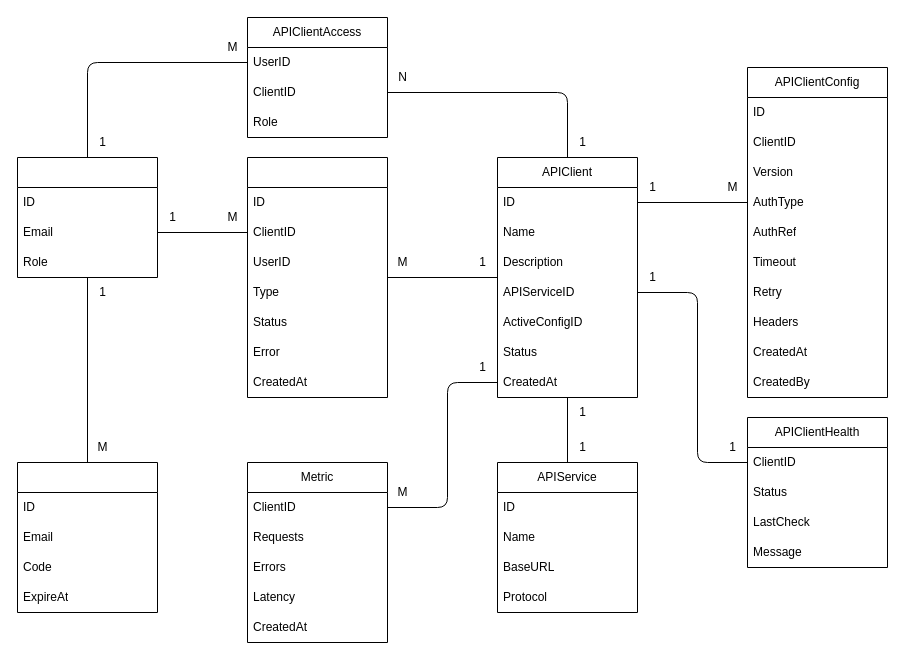
Image size: 905x660. Some labels were removed from this diagram. Here are the shapes that lost their labels. From the top down, the box of each, then its label:
(16, 156, 158, 278): User
(246, 156, 388, 398): APIClientAction
(16, 462, 158, 612): EmailCode
